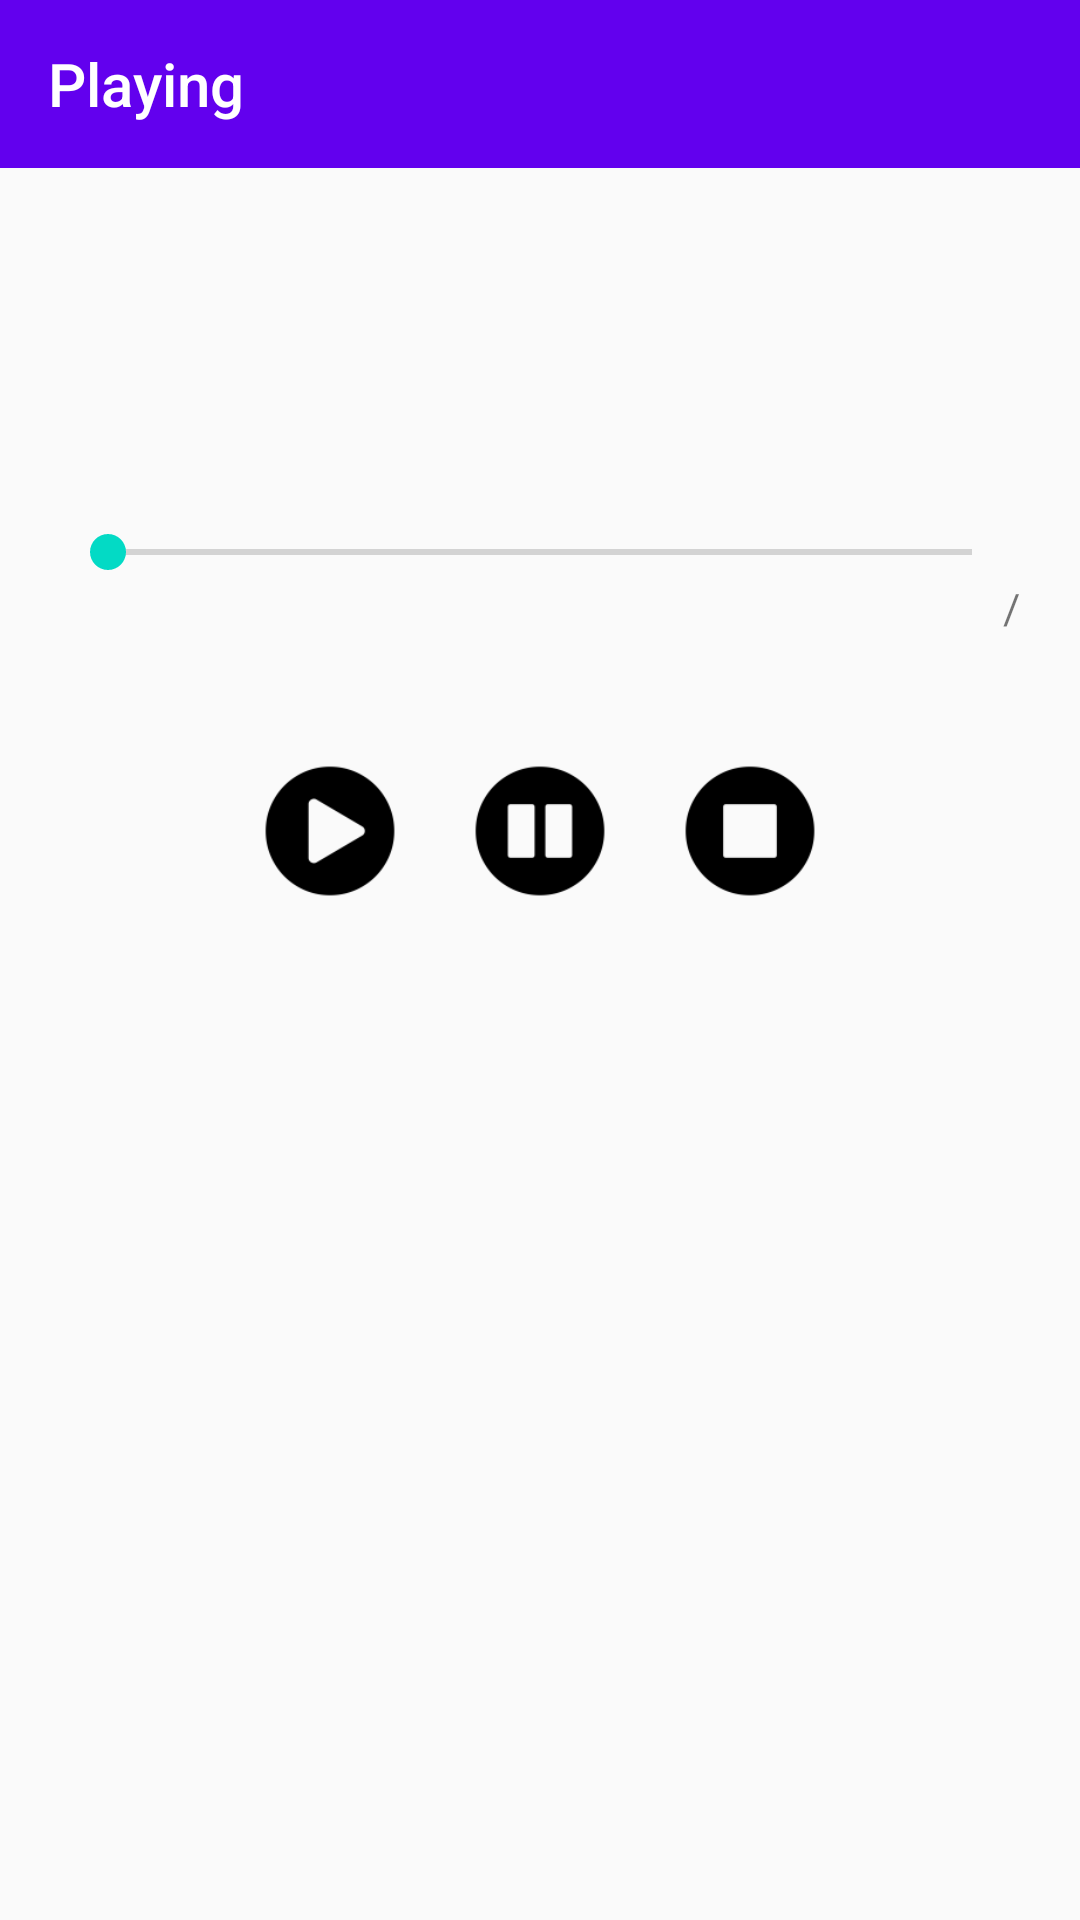

Where to tap for icons on this 1080×1920 app screen, as (x,y):
pause: (540,831)
play: (330,831)
stop: (750,831)
